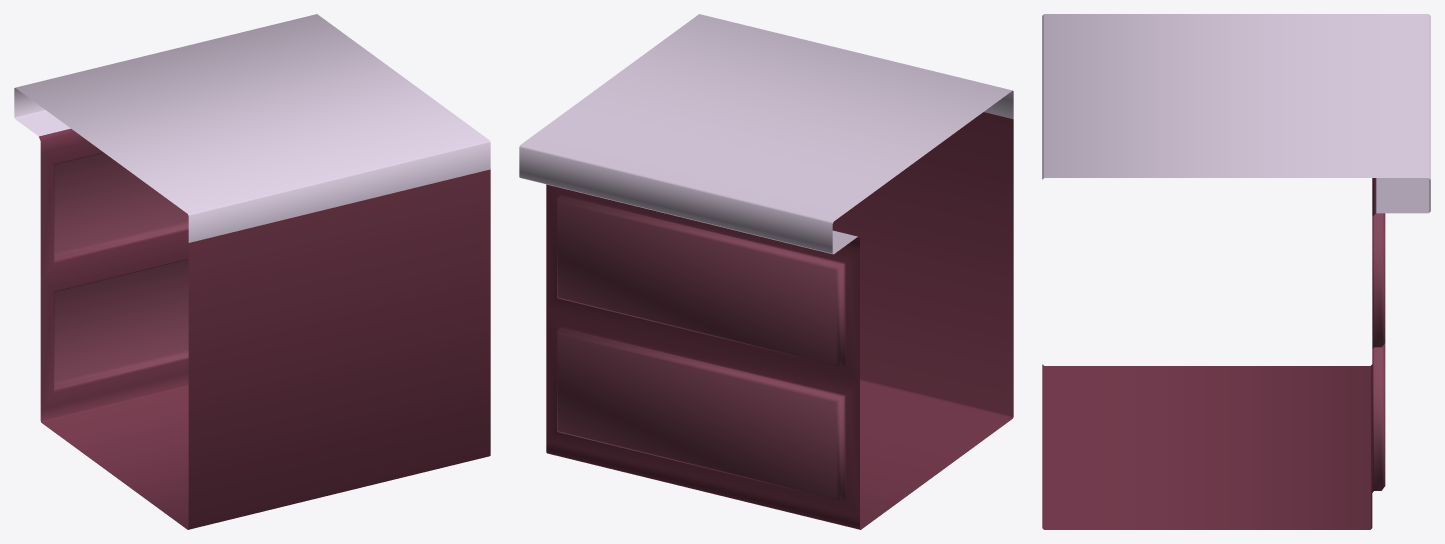
File: FullCounter.fbx
3 renders of one model, left to right at view 1: azimuth 30°, elevation 25°; view 2: azimuth 150°, elevation 25°; view 3: azimuth 270°, elevation 25°, orthographic. The views are drawn at different scales.
Visible parts, largest first — view 1: Cube.002; view 2: Cube.002; view 3: Cube.002.
Boxes of the visible parts, x1=… form: Cube.002: x1=14, y1=14, x2=490, y2=529; Cube.002: x1=519, y1=14, x2=1013, y2=529; Cube.002: x1=1042, y1=14, x2=1430, y2=529.
Bounding box in the file's own units: 200 × 200 × 200.
